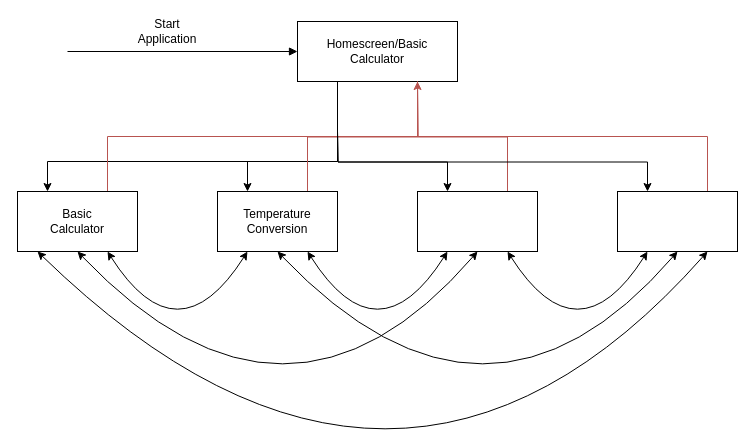
Image size: 755x447. Some labels were removed from this diagram. The centre of each missing label's shape, as x and y in pixels:
Distance Conversion: pixel 477 221
Wolfram Alpha API: pixel 677 221
